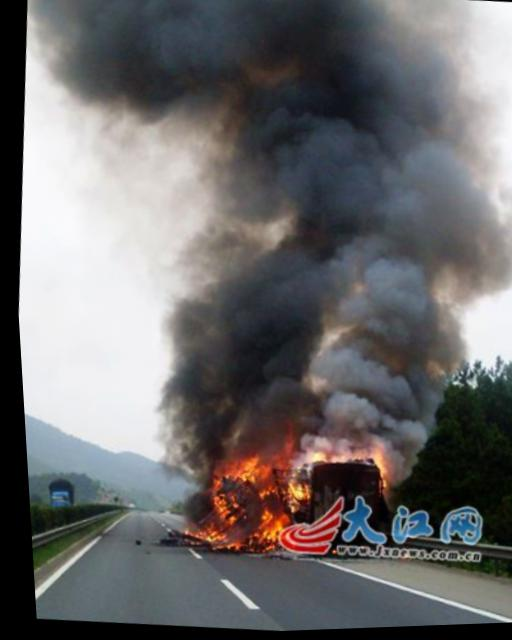fire: (165, 406, 400, 577)
